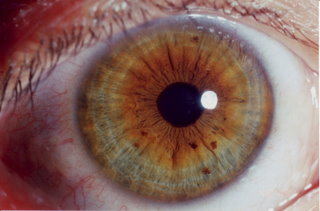iris: (74, 18, 273, 205)
pupil: (157, 81, 204, 128)
